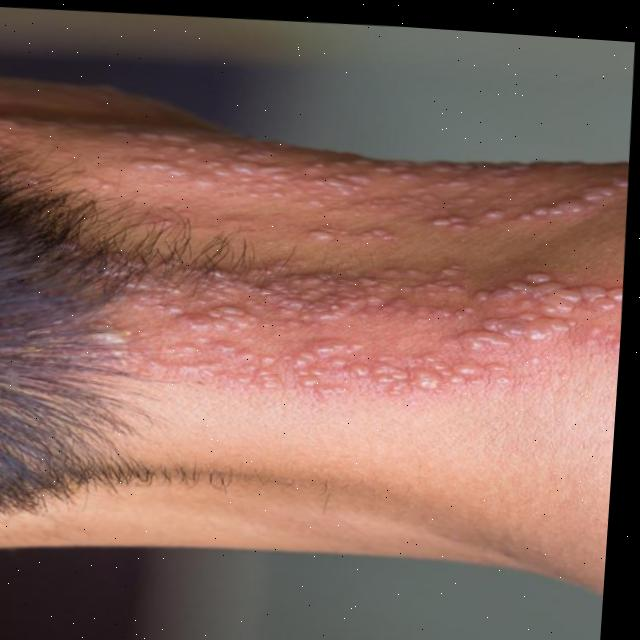Shingles: (130, 119, 633, 400)
